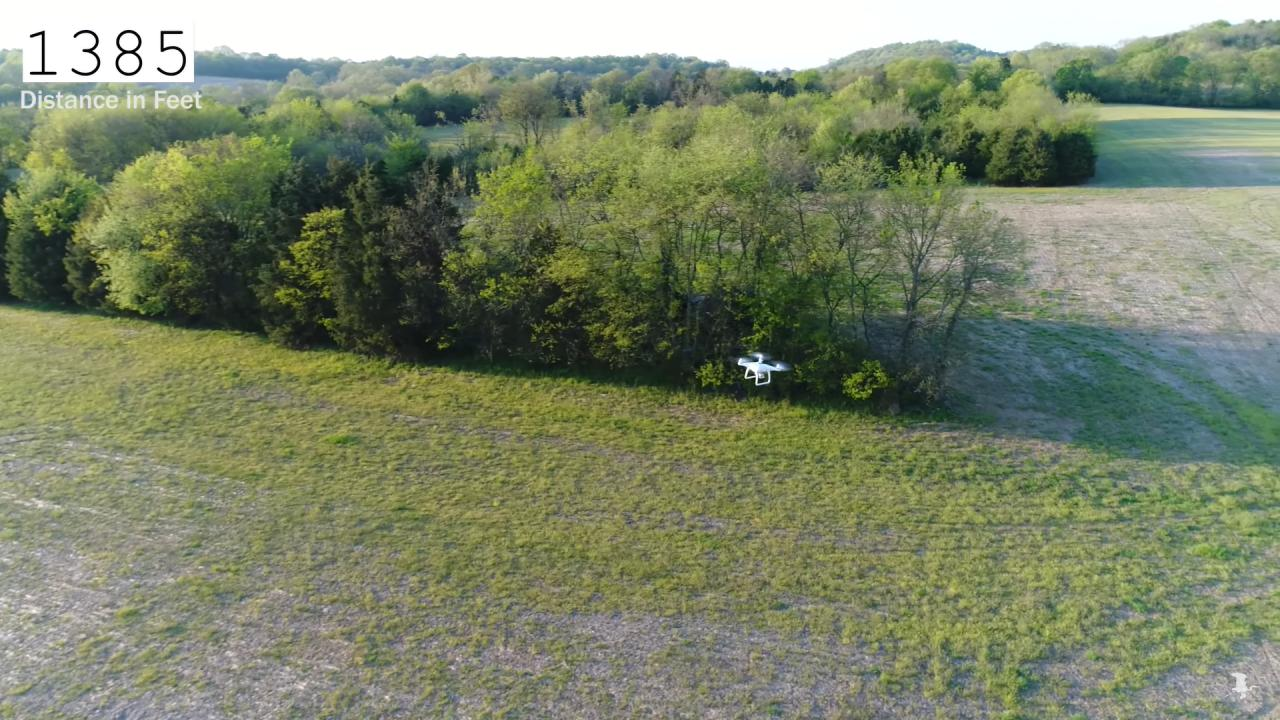Drone: (726, 342, 798, 396)
